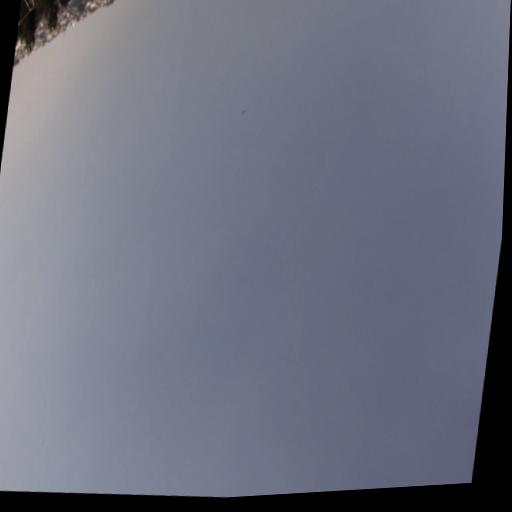drones: (241, 109, 247, 116)
